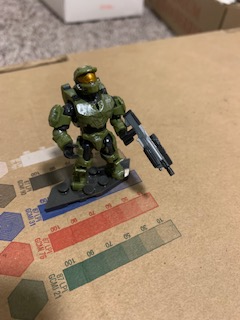chief: (48, 63, 134, 192)
rifle: (122, 110, 175, 177)
spartan: (46, 61, 132, 190)
